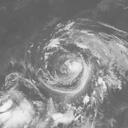cyclone: (35, 25, 95, 101)
